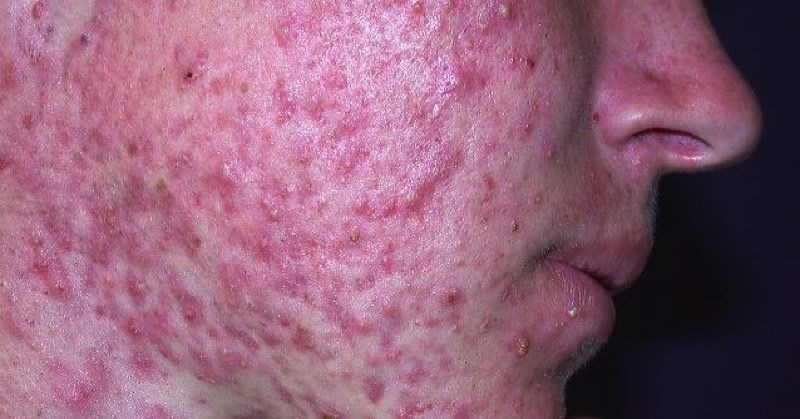Acne: (24, 0, 54, 30), (339, 221, 369, 249), (173, 63, 203, 90), (494, 2, 526, 27), (512, 330, 536, 363), (439, 283, 470, 308), (503, 213, 527, 244), (559, 299, 587, 324), (260, 197, 283, 227), (518, 113, 541, 142), (542, 143, 562, 169)
